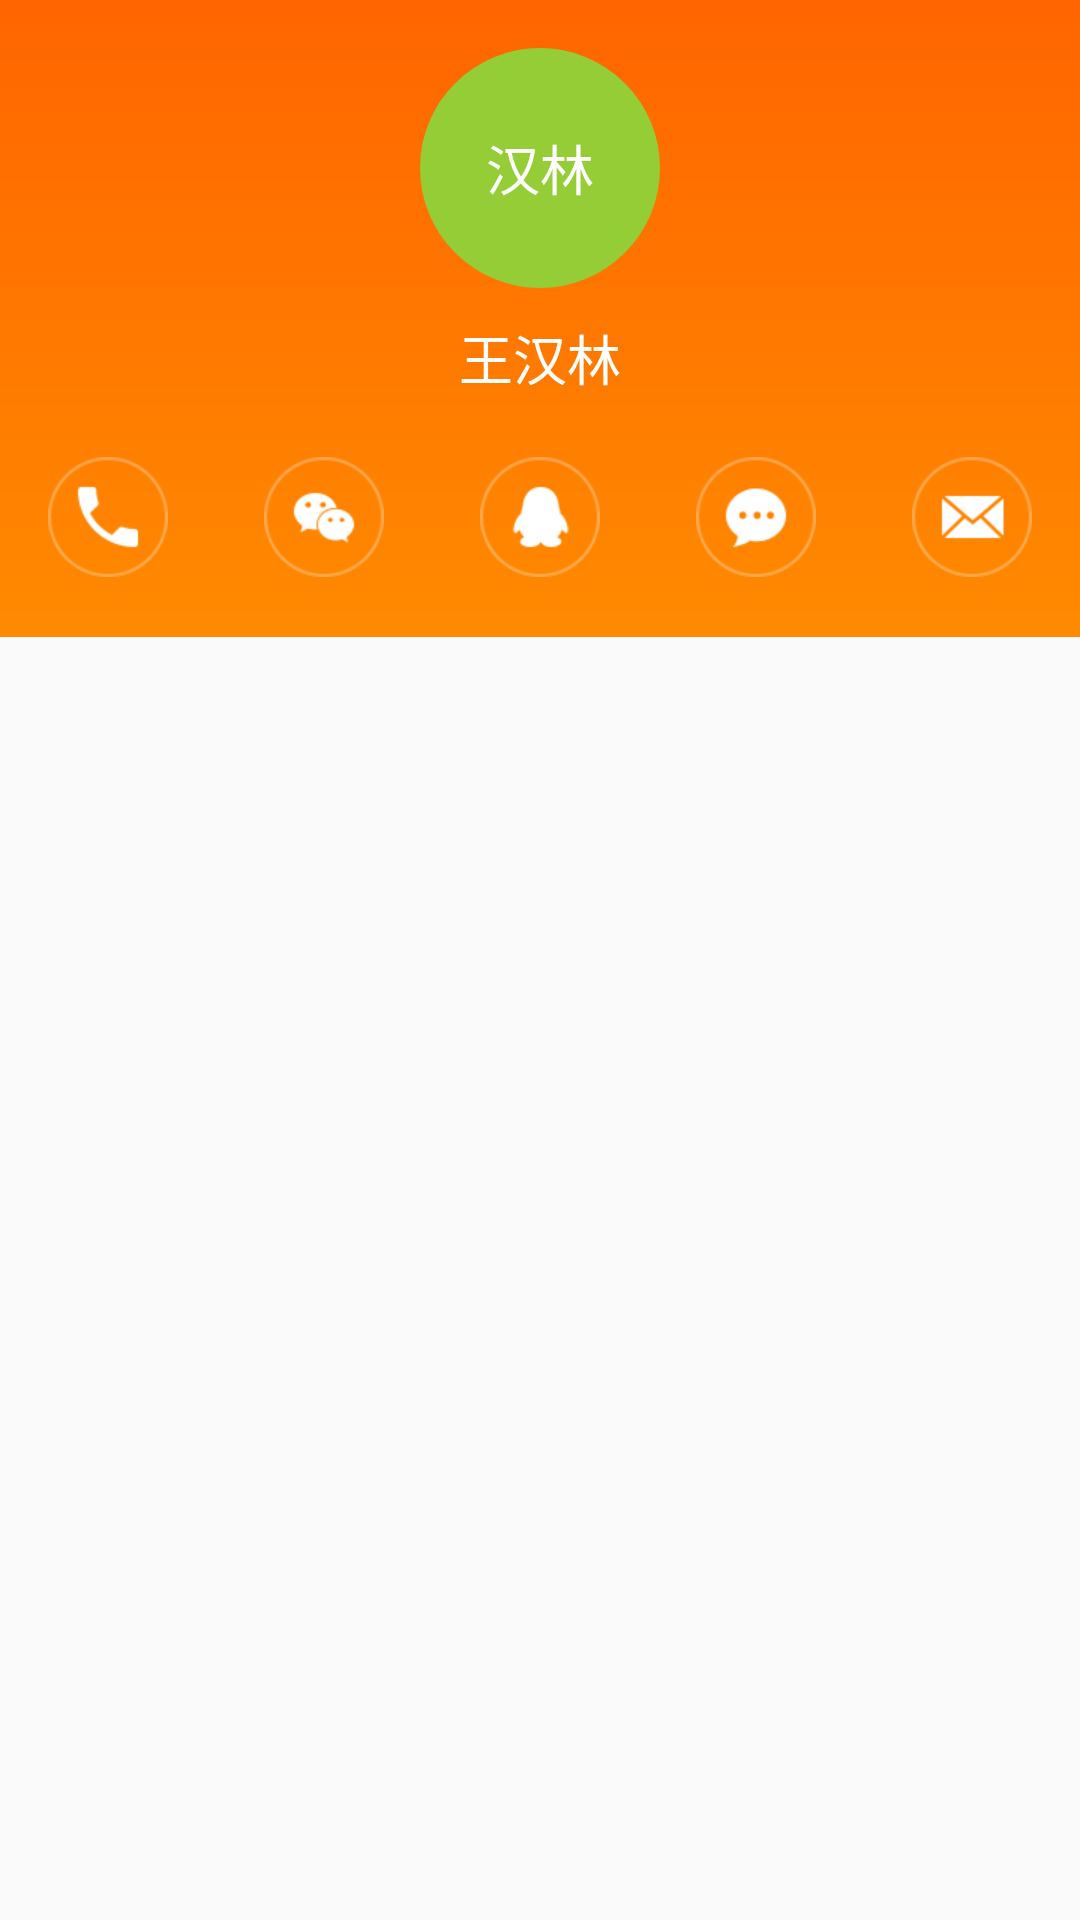

Point at icon controls on the screen. Image size 1080×1920, points as (x=x, y=y).
clue spec email: (x=972, y=517)
clue spec message: (x=756, y=517)
clue spec phone: (x=108, y=517)
